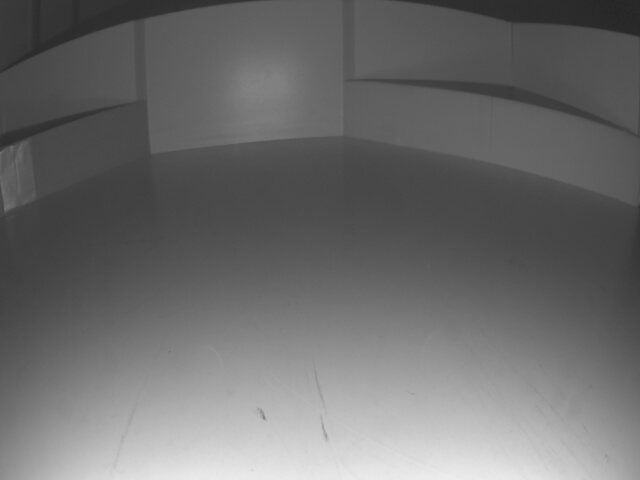Point: (345, 81, 640, 207), (0, 103, 150, 216)
